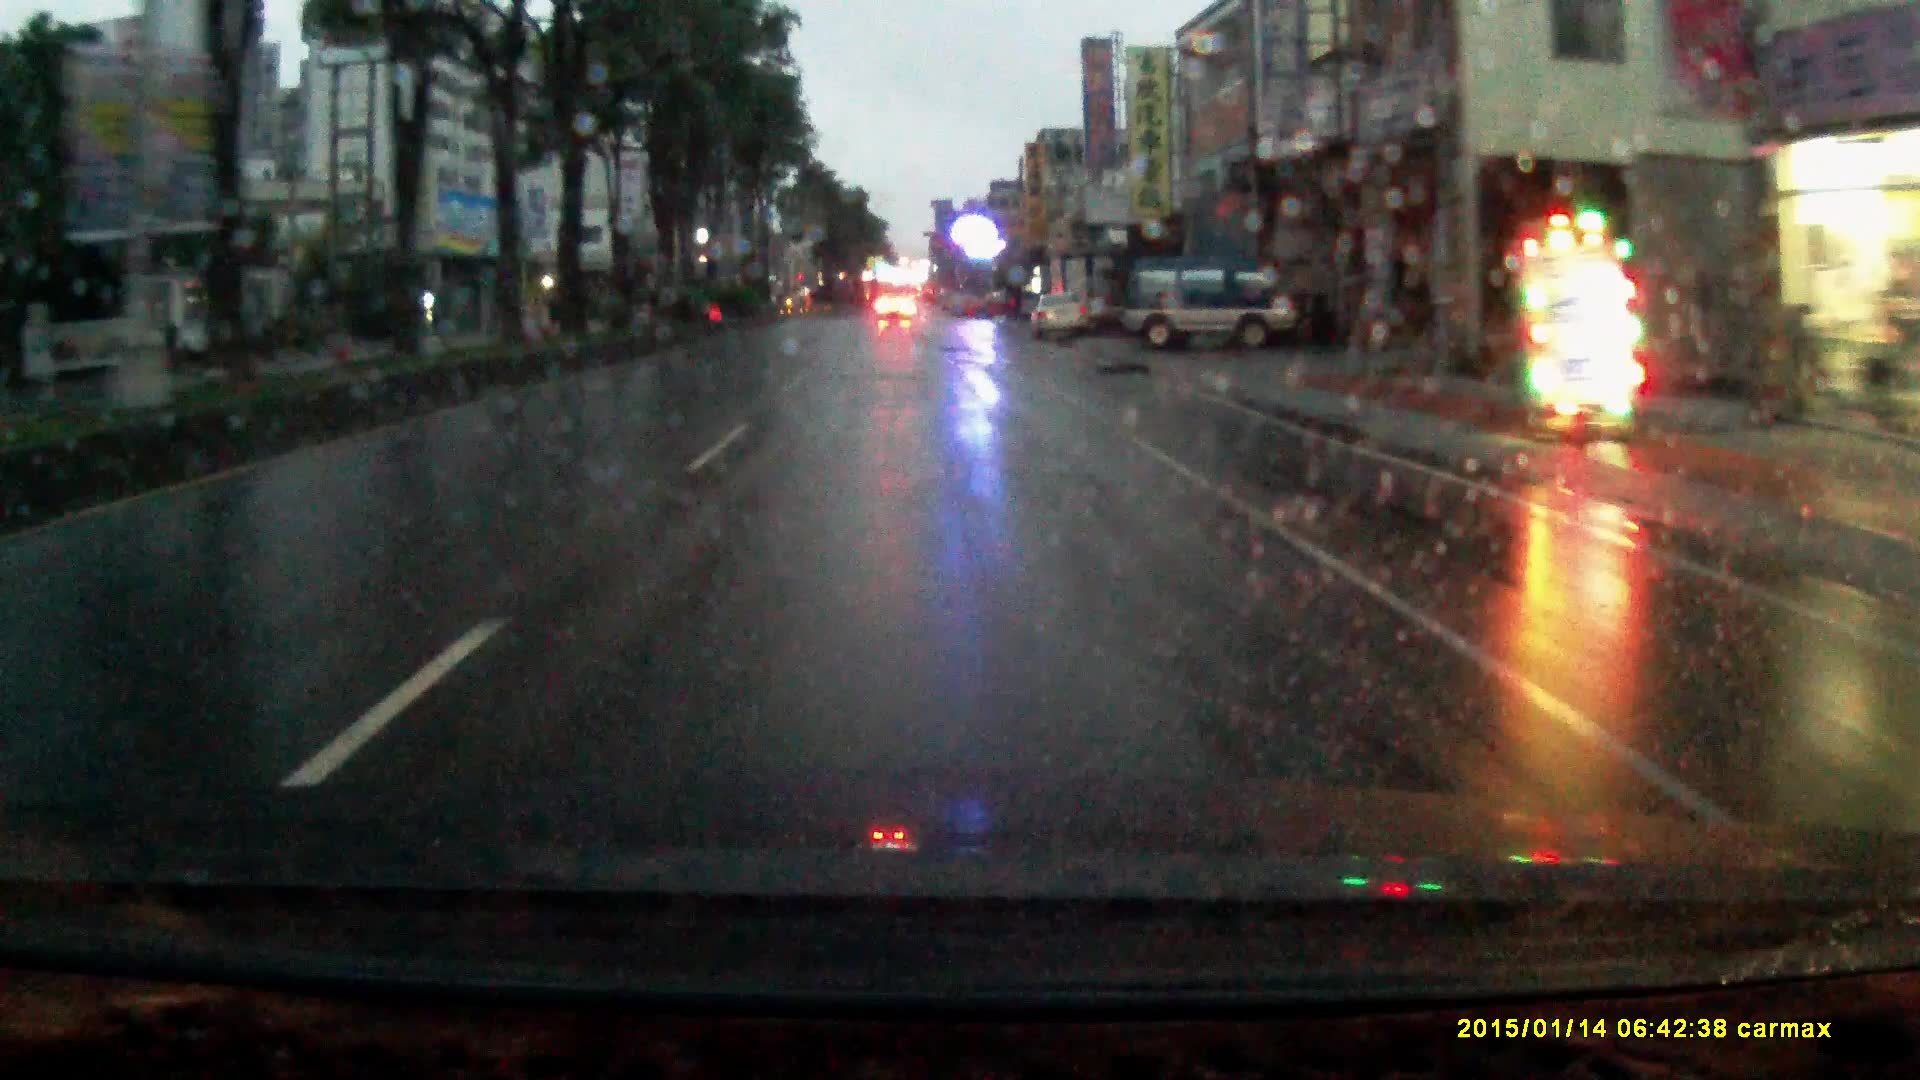vehicle: (1117, 258, 1315, 356), (1046, 248, 1120, 338), (1030, 290, 1092, 344), (876, 293, 915, 324)
